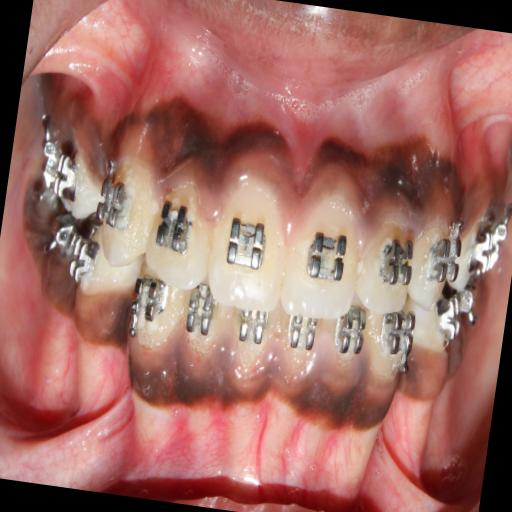correct_brace: (222, 210, 274, 280), (302, 224, 352, 292), (154, 196, 200, 262), (94, 164, 133, 237), (376, 228, 416, 294)
incorrect_brace: (144, 164, 218, 292), (352, 204, 420, 320)
